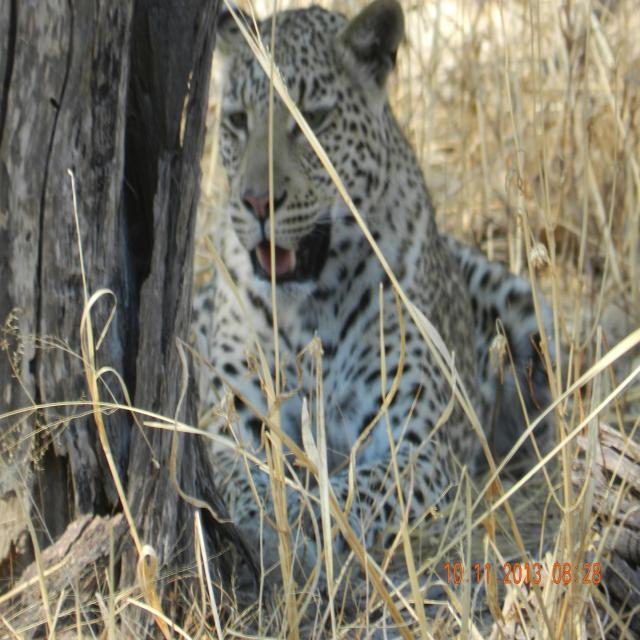Leopard: (126, 0, 619, 587)
